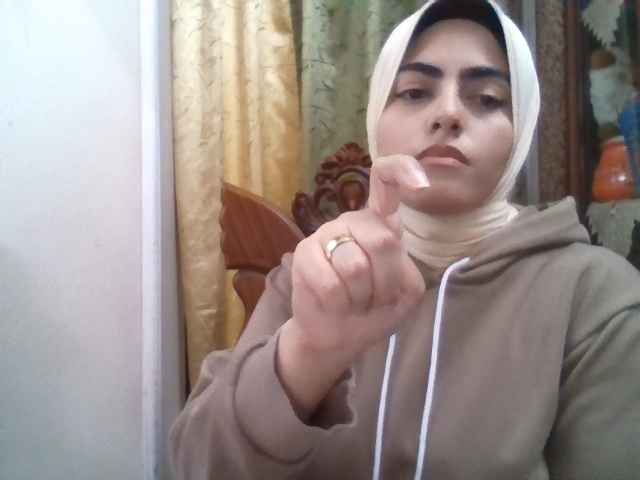X: (292, 154, 429, 349)
